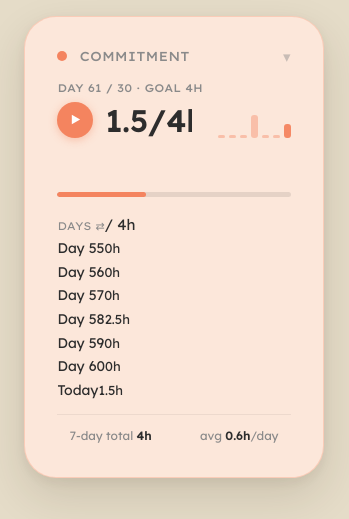
Scenario: a past day opened and left untouched › Open a past day whose hours are not a whole tenth, such as 2 hours 32 minutes, and click away without typing: nothing is written, and the row still shows "2.5h"
Click the text titled "Click to edit hours": (113, 319) [105, 311, 130, 327]
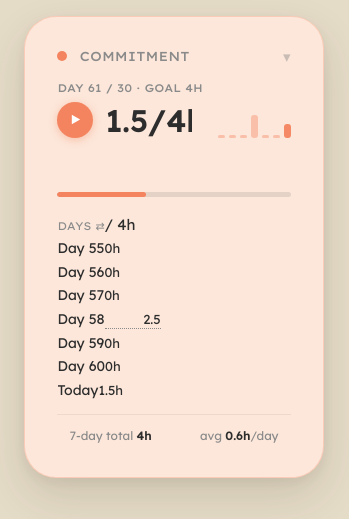
Expected: the field is shown
Expected: the field holds "2.5"
Leave the field, box [105, 311, 161, 329]
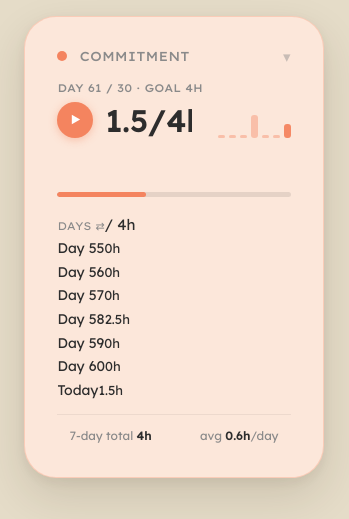
Expected: the text titled "Click to edit hours" is shown, [105, 311, 130, 327]
